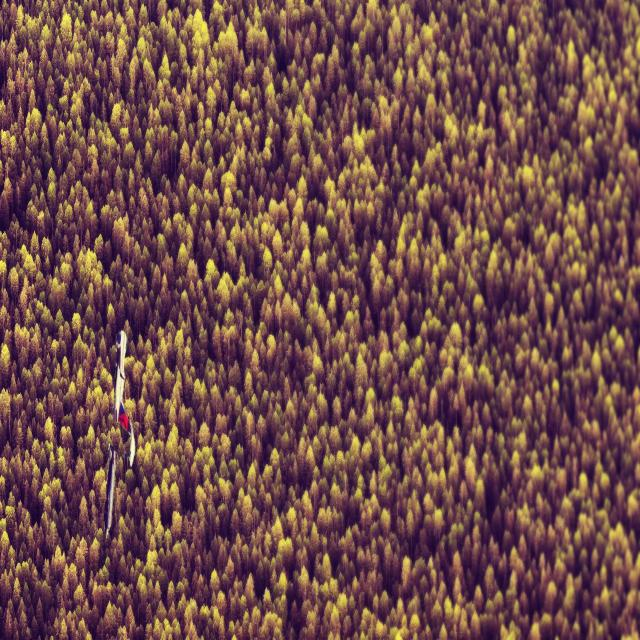airplane: (103, 329, 136, 541)
